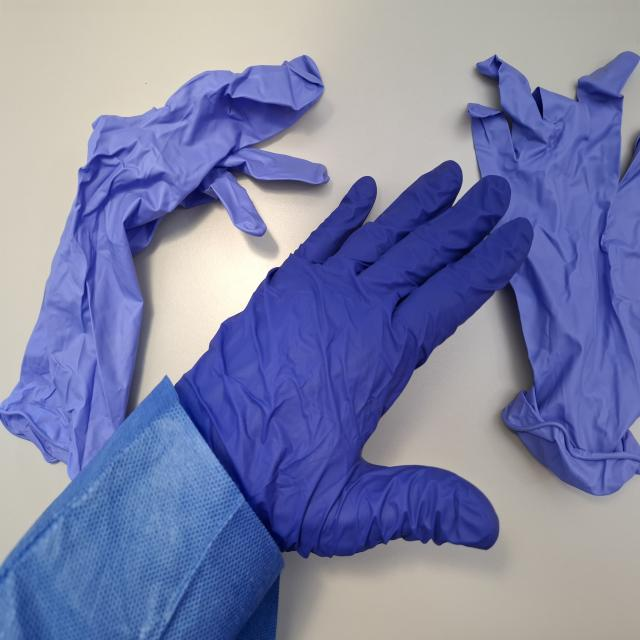glove_on: (172, 157, 531, 563)
